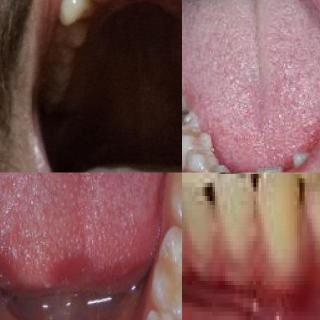cavities: (182, 102, 186, 122)
maligned: (292, 146, 314, 170), (247, 163, 285, 173), (80, 0, 110, 9)
